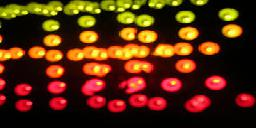LED: (213, 4, 240, 21), (198, 40, 222, 59), (172, 9, 200, 25), (159, 76, 184, 93), (12, 80, 38, 96), (46, 79, 74, 92), (79, 30, 102, 45), (41, 33, 65, 47), (75, 13, 95, 28), (38, 19, 65, 30)
